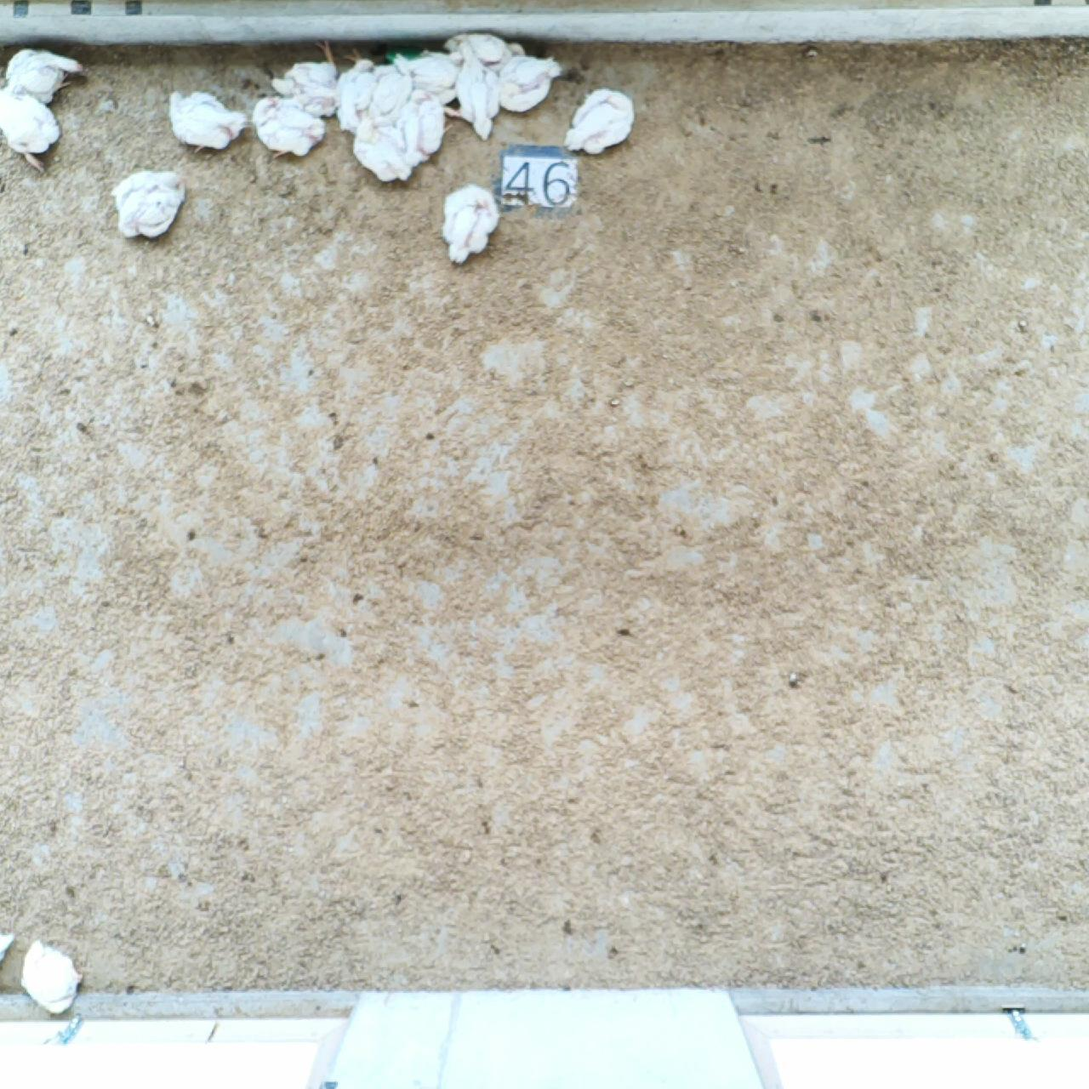chicken: (260, 38, 341, 120), (105, 164, 185, 247), (335, 105, 418, 180), (163, 85, 248, 152), (1, 86, 65, 170), (565, 83, 636, 158), (403, 91, 474, 165), (254, 95, 330, 161), (1, 43, 82, 104), (447, 20, 535, 76), (20, 938, 80, 1018), (441, 180, 498, 263), (453, 42, 500, 130), (392, 45, 468, 98), (488, 51, 557, 104), (336, 50, 383, 115), (373, 71, 409, 126), (1, 920, 14, 977)
